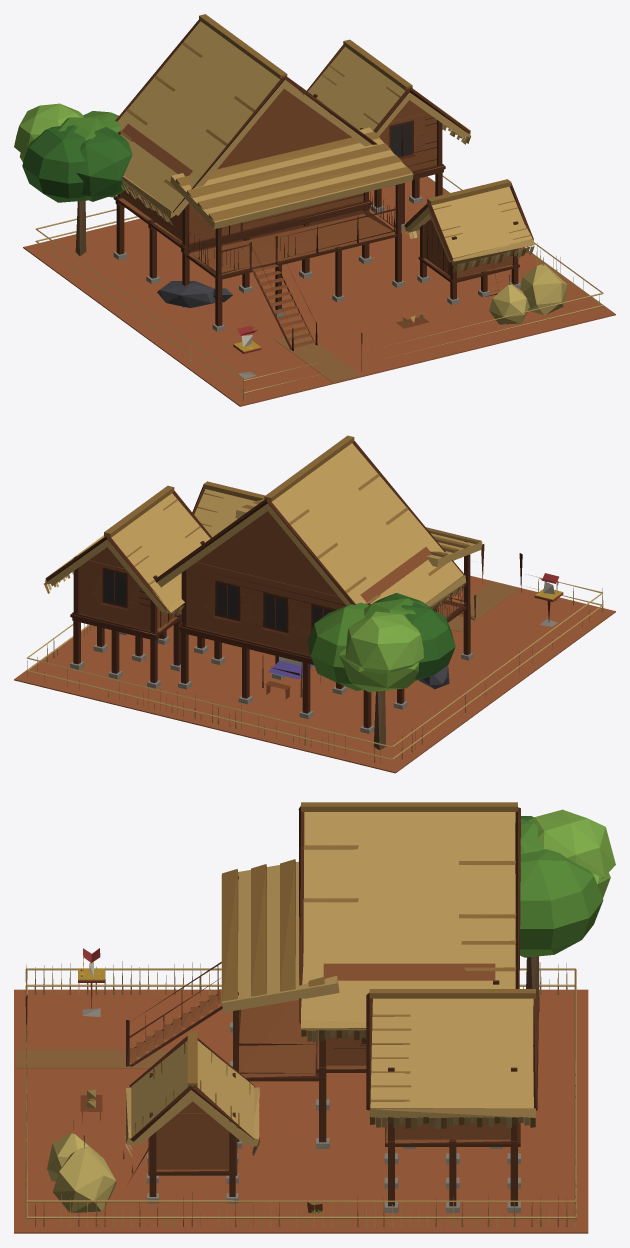
Rendered from home_4.glb.
3 renders of one model, top to bottom at view 1: azimuth 30°, elevation 25°; view 2: azimuth 150°, elevation 25°; view 3: azimuth 270°, elevation 25°, orthographic. The views are drawn at different scales.
Parts seen in each view (by area): view 1: body, windows; view 2: body, windows; view 3: body.
Part boxes in pixels (left/top/right/bottom): body: left=14, top=14, right=615, bottom=406; windows: left=391, top=122, right=412, bottom=156; body: left=14, top=435, right=615, bottom=773; windows: left=104, top=569, right=332, bottom=630; body: left=14, top=802, right=615, bottom=1233.
Size of the model in its own units: 16.82 by 8.92 by 16.67.
